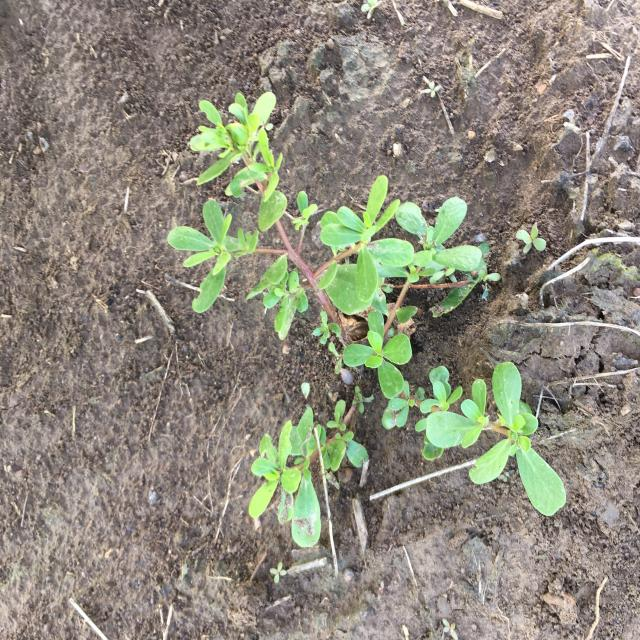Purslane: (167, 92, 482, 399), (382, 362, 566, 516), (248, 386, 374, 547), (516, 222, 546, 254)
